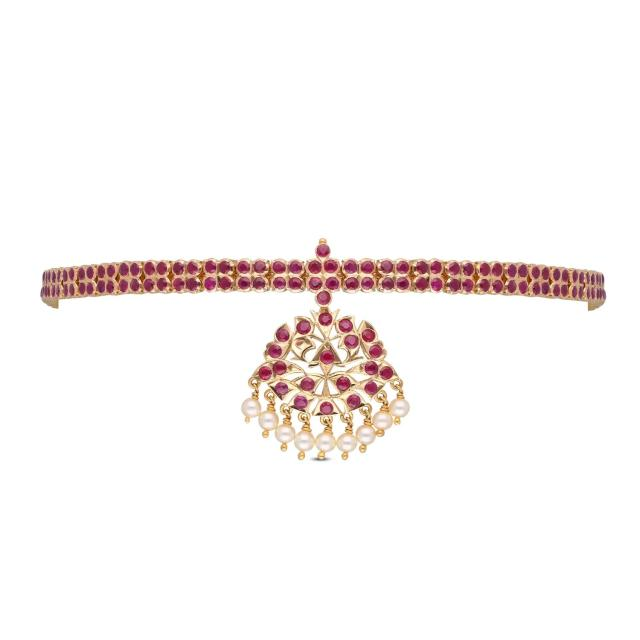missing gem: (294, 339, 307, 349)
